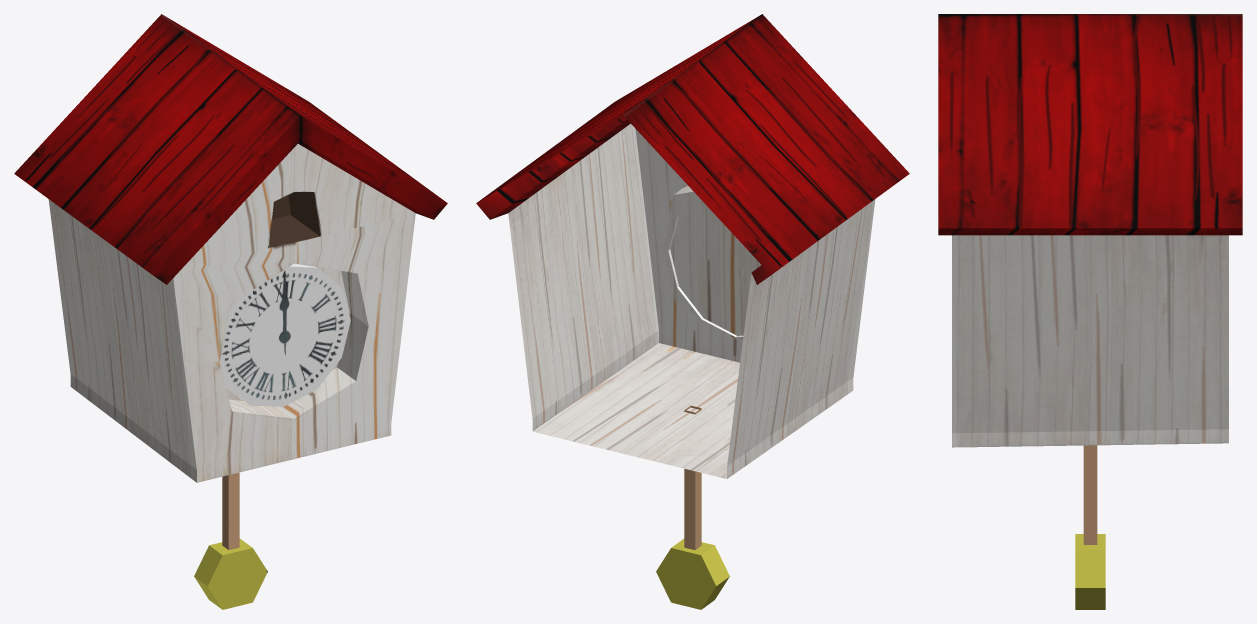
File: RELOJ CUCU.fbx
3 renders of one model, left to right at view 1: azimuth 30°, elevation 25°; view 2: azimuth 150°, elevation 25°; view 3: azimuth 270°, elevation 25°, orthographic. The views are drawn at different scales.
Parts seen in each view (by area): view 1: Caja_CUCU, Reloj, Pendulo, Cuerda_Pendulo; view 2: Caja_CUCU, Pendulo, Cuerda_Pendulo; view 3: Caja_CUCU, Pendulo, Cuerda_Pendulo.
Part boxes in pixels (x1,y1,x2,y2): Caja_CUCU: [14, 14, 447, 482]; Reloj: [219, 263, 350, 406]; Pendulo: [194, 538, 267, 609]; Cuerda_Pendulo: [222, 472, 239, 549]; Caja_CUCU: [476, 14, 909, 478]; Pendulo: [656, 538, 729, 609]; Cuerda_Pendulo: [684, 405, 701, 549]; Caja_CUCU: [938, 14, 1242, 447]; Pendulo: [1075, 534, 1105, 609]; Cuerda_Pendulo: [1083, 445, 1097, 544].
Size of the model in its own units: 2.29 by 3.98 by 1.87.
